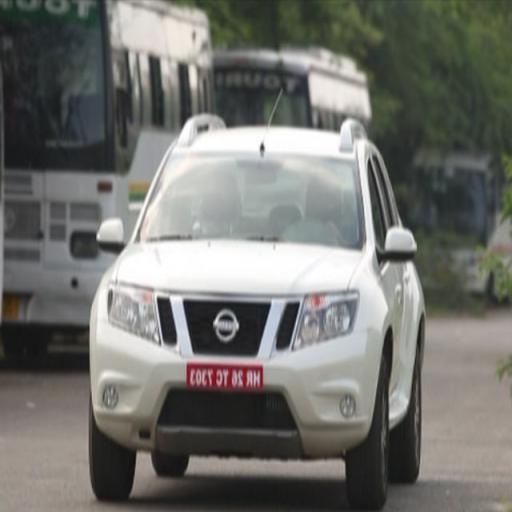License: (182, 353, 266, 407)
